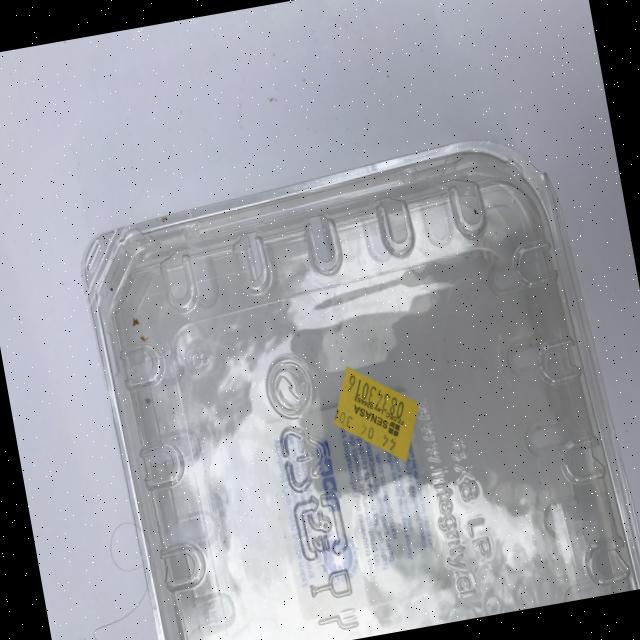plastic: (70, 123, 640, 640)
